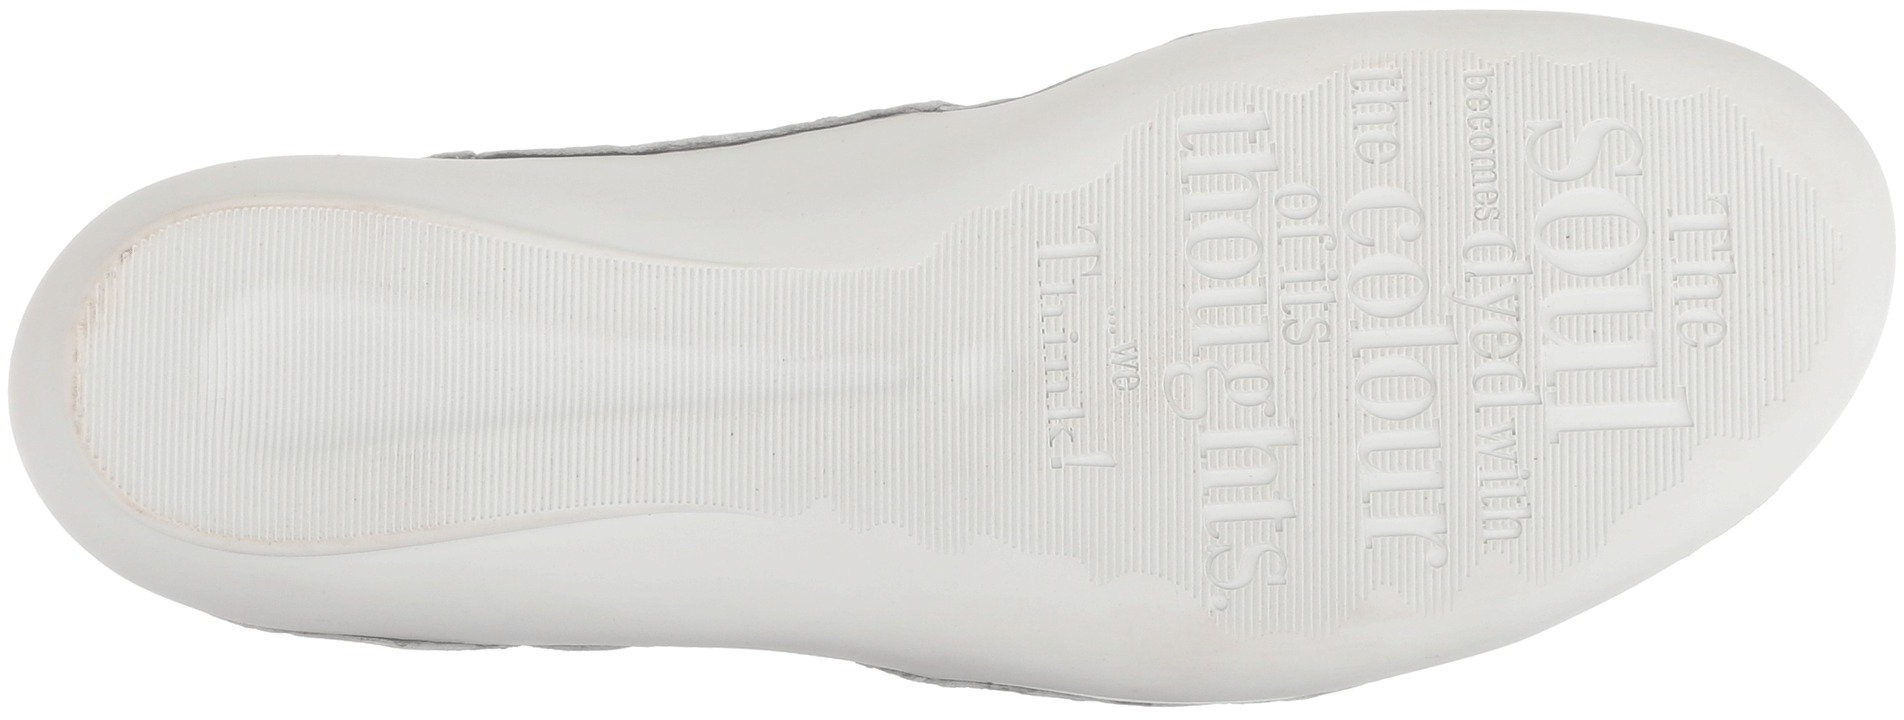circle: (1032, 58, 1766, 603)
line: (1032, 58, 1766, 603), (143, 228, 616, 527), (651, 285, 1008, 540)
other: (365, 248, 623, 503), (654, 255, 906, 499), (126, 262, 364, 499), (705, 526, 839, 645), (916, 395, 1028, 528), (764, 141, 889, 253)
quad: (1032, 58, 1766, 603)
text: (1032, 58, 1766, 603), (1396, 238, 1583, 426), (1004, 223, 1191, 401), (1353, 56, 1537, 223), (1195, 278, 1381, 432), (1181, 93, 1341, 271), (1592, 185, 1746, 355), (1379, 426, 1540, 556), (1191, 452, 1325, 573)
